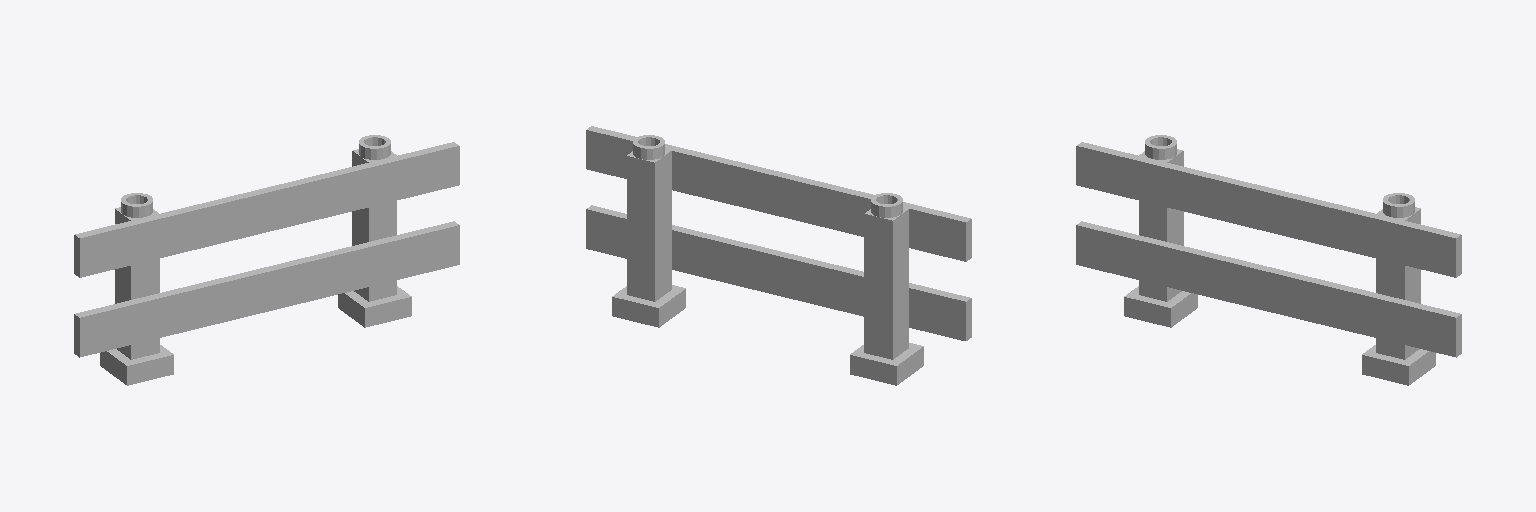
The model's file is Fence 1.obj.
The picture shows the model from 3 angles: view 1: azimuth 30°, elevation 25°; view 2: azimuth 150°, elevation 25°; view 3: azimuth 330°, elevation 25°; orthographic projection.
Parts seen in each view (by area): view 1: Part.1; view 2: Part.1; view 3: Part.1.
Boxes of the visible parts, x1,y1,x2,y2 form: Part.1: [74, 135, 459, 385]; Part.1: [586, 126, 971, 385]; Part.1: [1076, 135, 1461, 385].
Size of the model in its own units: 63.92 by 27.38 by 7.92.